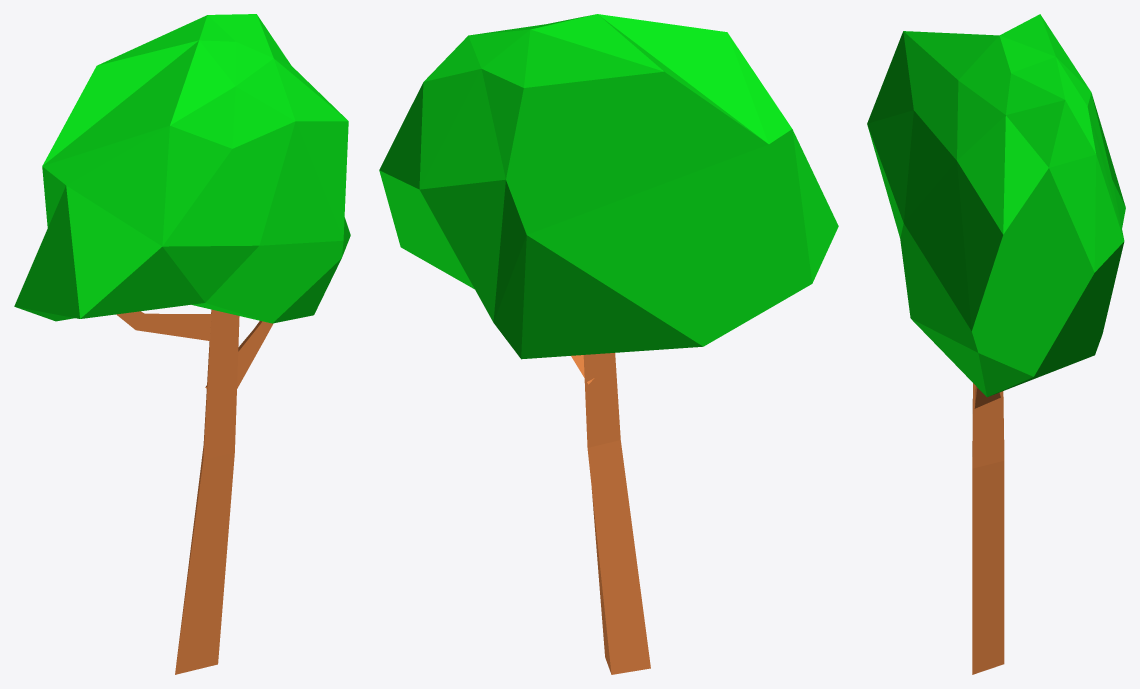
File: tree.fbx
3 views of the same model, side by side, from view 1: azimuth 30°, elevation 25°; view 2: azimuth 150°, elevation 25°; view 3: azimuth 270°, elevation 25° (orthographic). The views are drawn at different scales.
Visible parts, largest first — view 1: Icosphere, Tree; view 2: Icosphere, Tree; view 3: Icosphere, Tree.
Boxes of the visible parts, box(x1,y1,x2,y2) form: Icosphere: box(14, 14, 350, 323); Tree: box(116, 309, 273, 674); Icosphere: box(379, 14, 838, 359); Tree: box(571, 353, 650, 674); Icosphere: box(867, 14, 1125, 397); Tree: box(972, 383, 1004, 674).
Size of the model in its own units: 505 by 821 by 303.
